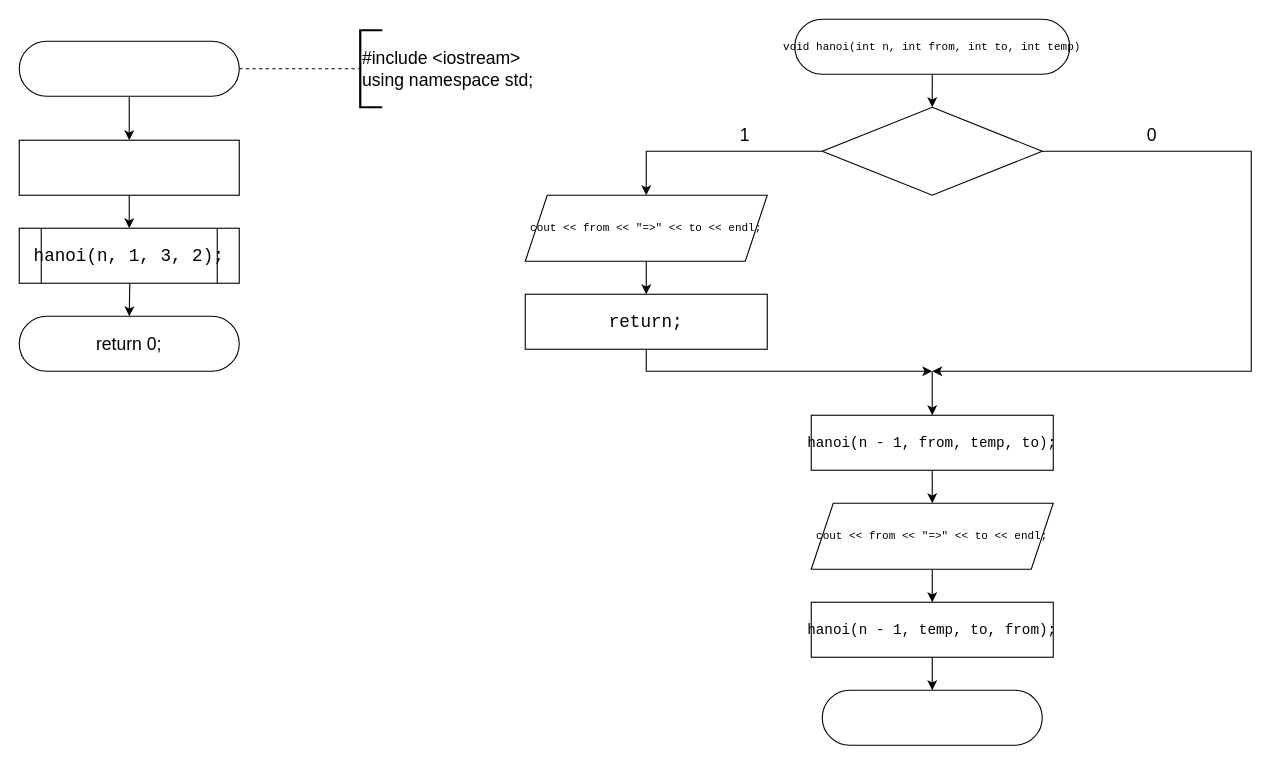
This 1279x765 diagram has some shape labels left out. The centre of each missing label's shape, as x and y in pixels:
"if ( n == 1 )" goes at point (931, 150).
"int main()" goes at point (128, 68).
"int n = 4 ;" goes at point (128, 167).
"Конец" goes at point (931, 717).
